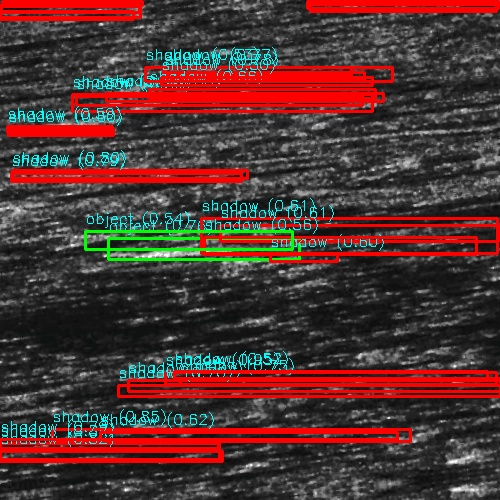rock: (96, 232, 293, 247), (0, 355, 131, 368), (251, 0, 366, 13), (137, 65, 220, 80), (436, 180, 500, 195), (17, 431, 100, 438), (136, 374, 199, 383), (44, 96, 117, 103), (239, 254, 302, 261), (293, 267, 366, 272), (10, 165, 21, 176), (417, 480, 448, 483)
shadow: (195, 232, 500, 247), (168, 374, 500, 383), (179, 65, 366, 80), (0, 446, 213, 459), (16, 165, 245, 176), (59, 431, 416, 438), (309, 0, 500, 13), (43, 355, 224, 368), (81, 96, 374, 103), (0, 387, 142, 400), (0, 12, 135, 17), (0, 43, 33, 56), (271, 254, 331, 261), (0, 130, 120, 133), (330, 267, 391, 272), (433, 480, 500, 483)
